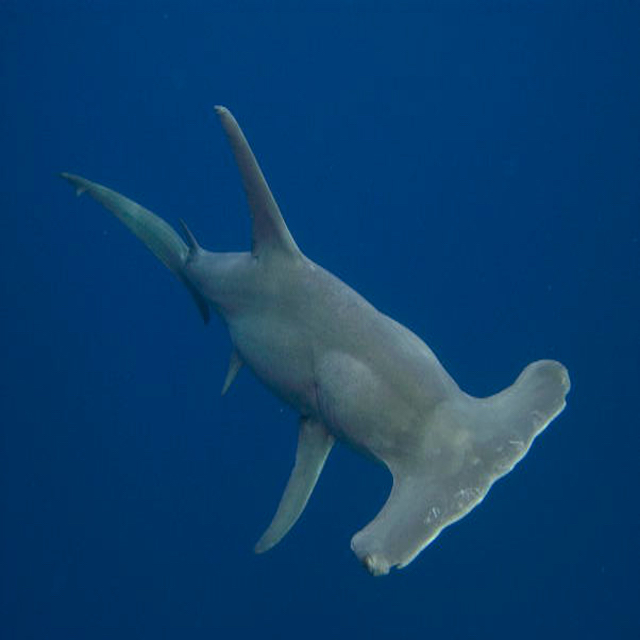hammerhead: (229, 284, 605, 571)
